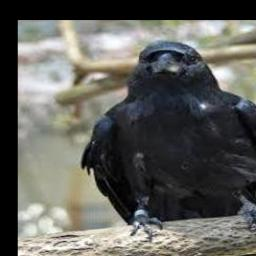Crow: (80, 40, 256, 241)
